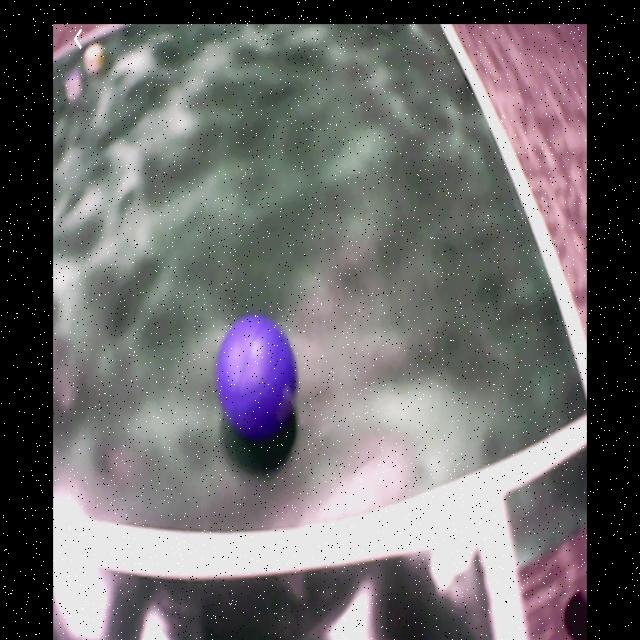ball: (216, 316, 300, 446)
